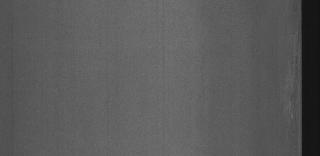silk spot: (282, 42, 300, 125)
